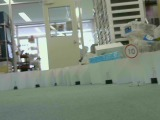speed_10: (124, 43, 138, 58)
